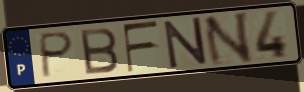4: (253, 8, 292, 61)
B: (78, 26, 122, 77)
F: (121, 19, 161, 75)
N: (201, 9, 255, 69), (161, 15, 210, 71)
P: (39, 30, 77, 80)
